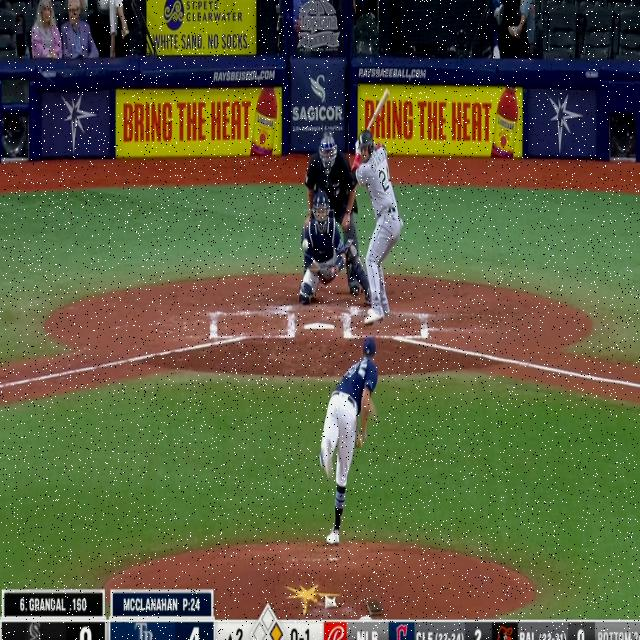baseball: (302, 238, 309, 252)
